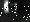person: (11, 3, 17, 15), (5, 1, 10, 14)
